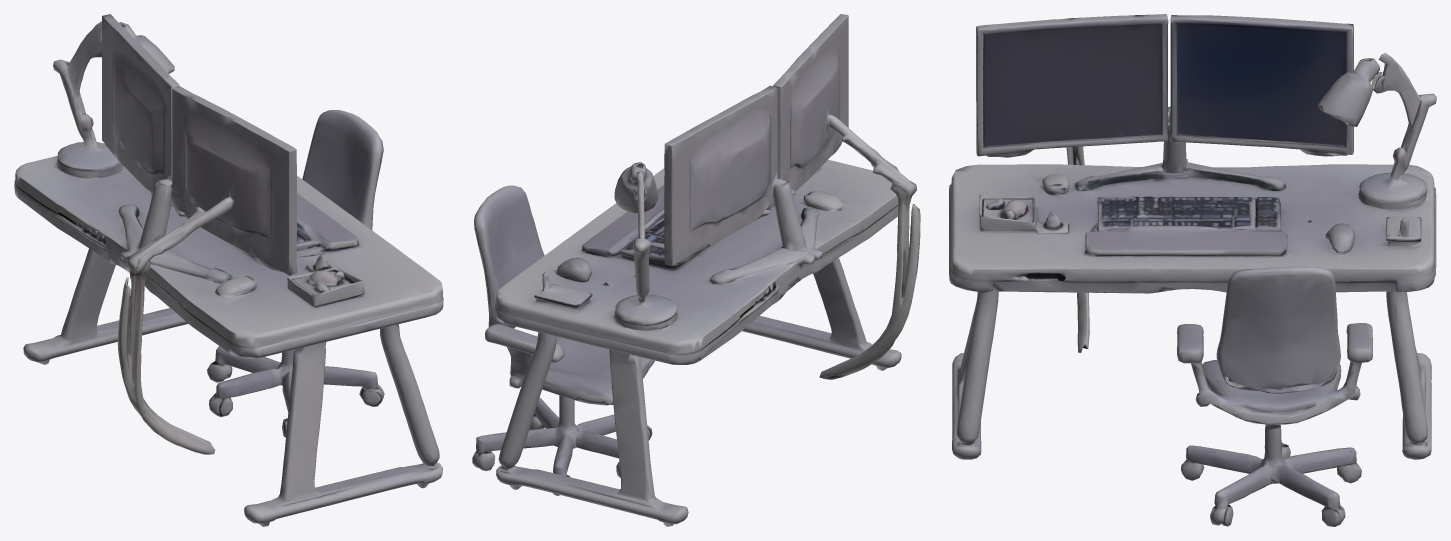
The model's file is au_furn_cyber_desk.glb.
3 renders of one model, left to right at view 1: azimuth 30°, elevation 25°; view 2: azimuth 150°, elevation 25°; view 3: azimuth 270°, elevation 25°, orthographic. The views are drawn at different scales.
Parts seen in each view (by area): view 1: tripo_node_c421fec2-ab83-43f9-bd84-55c23d472409; view 2: tripo_node_c421fec2-ab83-43f9-bd84-55c23d472409; view 3: tripo_node_c421fec2-ab83-43f9-bd84-55c23d472409.
Boxes of the visible parts, x1,y1,x2,y2 form: tripo_node_c421fec2-ab83-43f9-bd84-55c23d472409: (14, 14, 443, 526); tripo_node_c421fec2-ab83-43f9-bd84-55c23d472409: (472, 14, 920, 526); tripo_node_c421fec2-ab83-43f9-bd84-55c23d472409: (949, 14, 1436, 526).
Size of the model in its own units: 0.7158 by 0.78 by 0.8612.
1 material, 1 textured.
